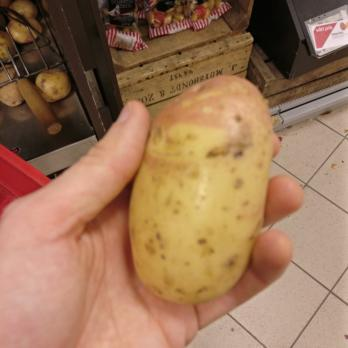Floury potato: (125, 72, 276, 304)
